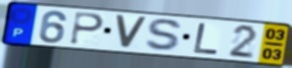2: (227, 24, 259, 61)
6: (37, 9, 69, 44)
L: (192, 21, 222, 56)
P: (68, 11, 107, 46)
S: (143, 17, 185, 53)
V: (113, 13, 150, 51)
